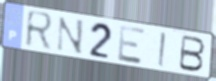2: (86, 21, 116, 63)
B: (177, 34, 207, 74)
E: (117, 23, 148, 66)
I: (157, 31, 167, 69)
N: (55, 15, 85, 56)
R: (23, 8, 56, 53)
